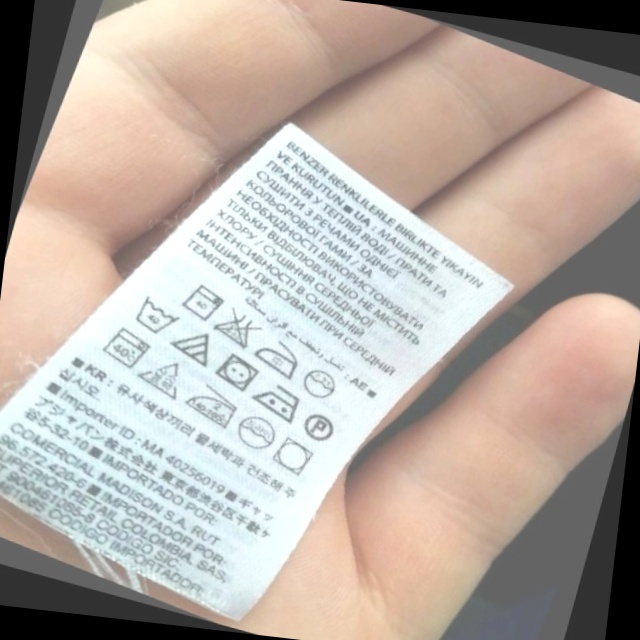40C: (129, 291, 187, 344), (101, 321, 156, 376), (180, 278, 229, 328)
dry_clean: (231, 408, 285, 457), (297, 361, 346, 408)
dry_clean_any_solvent_except_trichloroethylene: (299, 406, 342, 447)
iron: (250, 333, 309, 382)
iron_medium: (181, 380, 246, 433), (251, 377, 307, 425)
non_chlorine_bleach: (137, 352, 194, 405), (169, 322, 223, 371)
tumble_dry_medium: (210, 346, 268, 397)
tumble_dry_normal: (266, 432, 321, 484)
